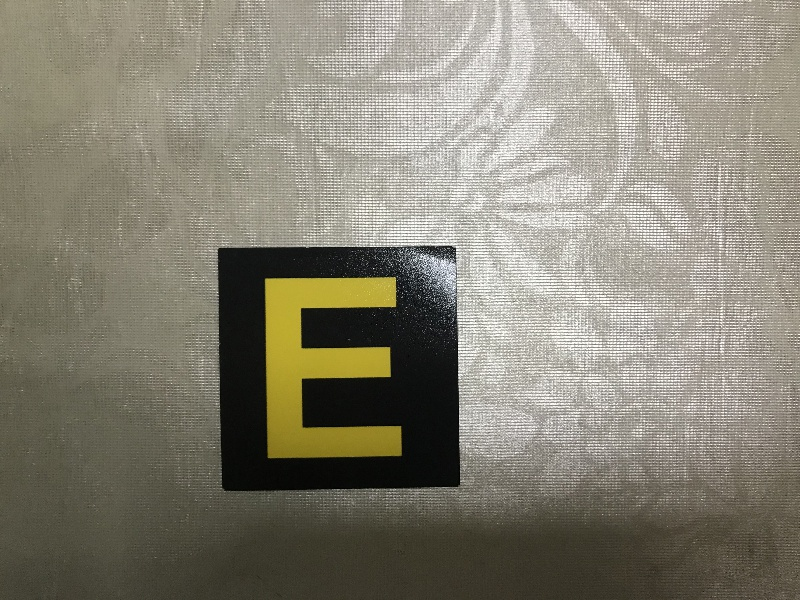E-15: (223, 250, 454, 482)
